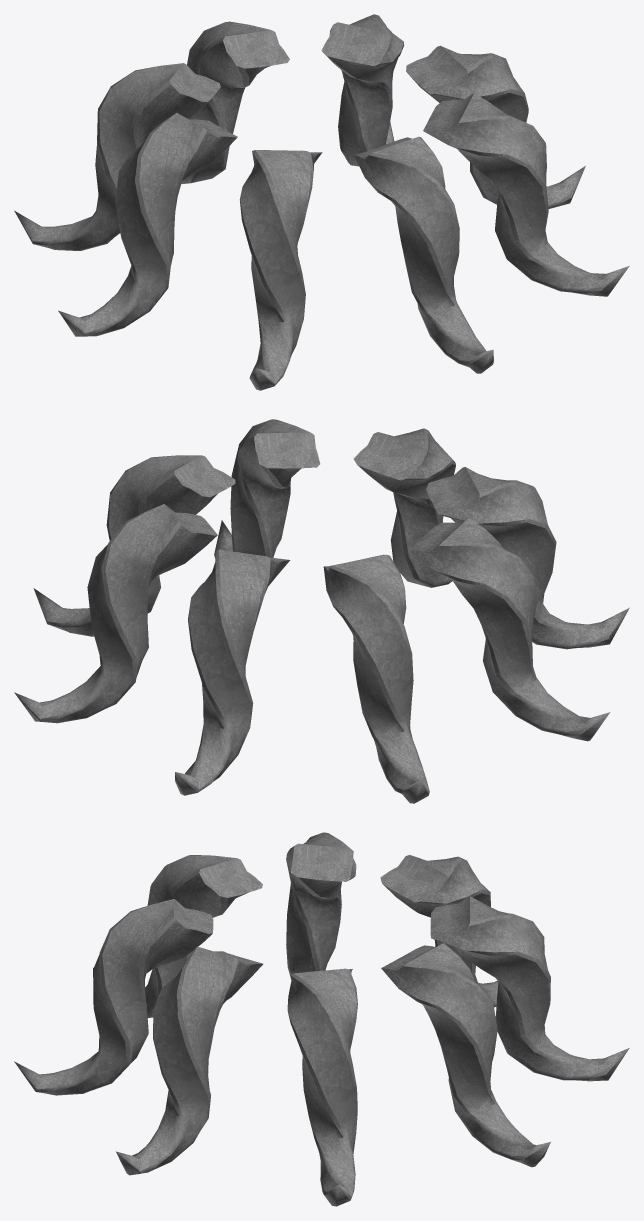
File: SM_BrazierLegs.fbx
The picture shows the model from 3 angles, top to bottom: view 1: azimuth 30°, elevation 25°; view 2: azimuth 150°, elevation 25°; view 3: azimuth 270°, elevation 25°; orthographic projection. The views are drawn at different scales.
Visible parts, largest first — view 1: SM_BrazierLegs_LOD0; view 2: SM_BrazierLegs_LOD0; view 3: SM_BrazierLegs_LOD0.
Boxes of the visible parts, bbox=[...] form: SM_BrazierLegs_LOD0: bbox=[14, 14, 629, 390]; SM_BrazierLegs_LOD0: bbox=[14, 419, 629, 803]; SM_BrazierLegs_LOD0: bbox=[14, 832, 629, 1206].
Bounding box in the file's own units: 70.21 × 70.21 × 22.83.
Materials: 1 (1 with a texture image).
